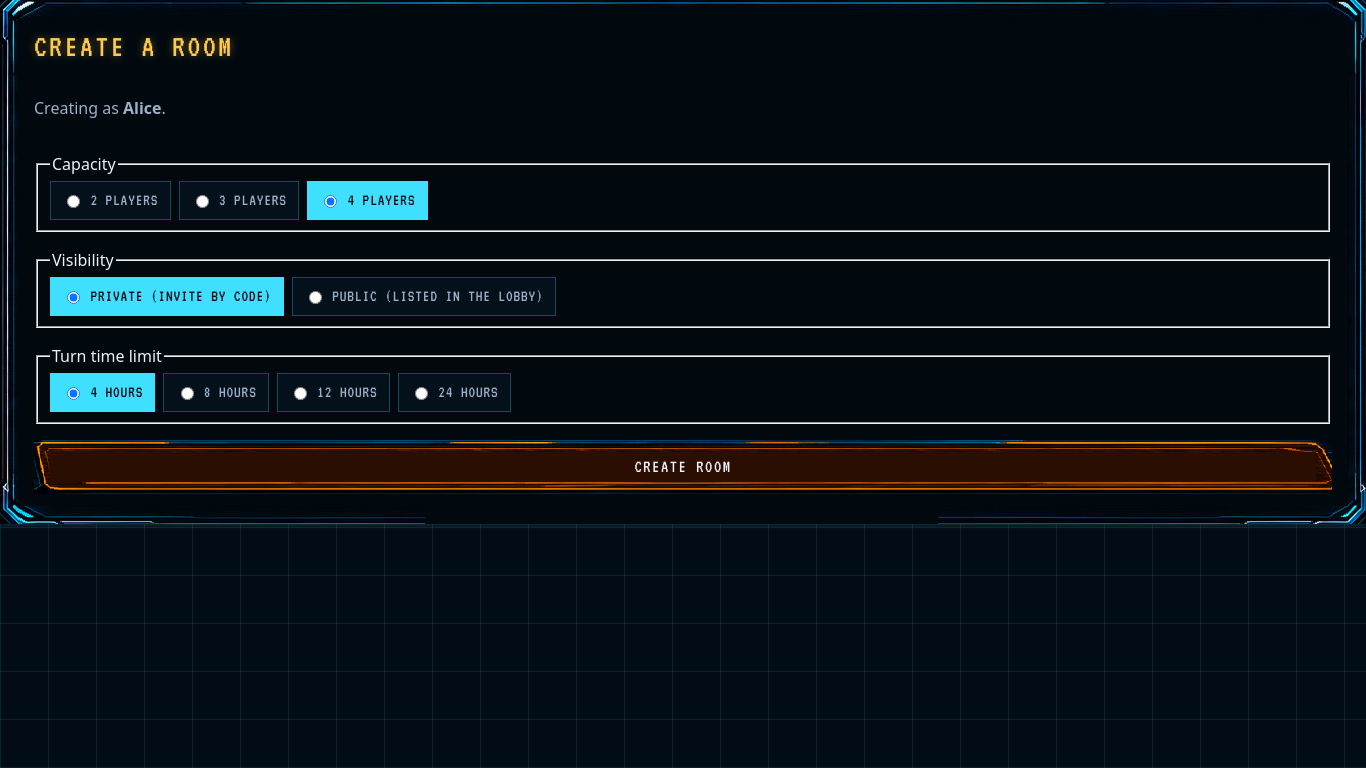
Scenario: CreateRoomPage › surfaces a server error without navigating
Step 1. Click the button "Create room" → (683,467), box 34,440 -> 1332,494
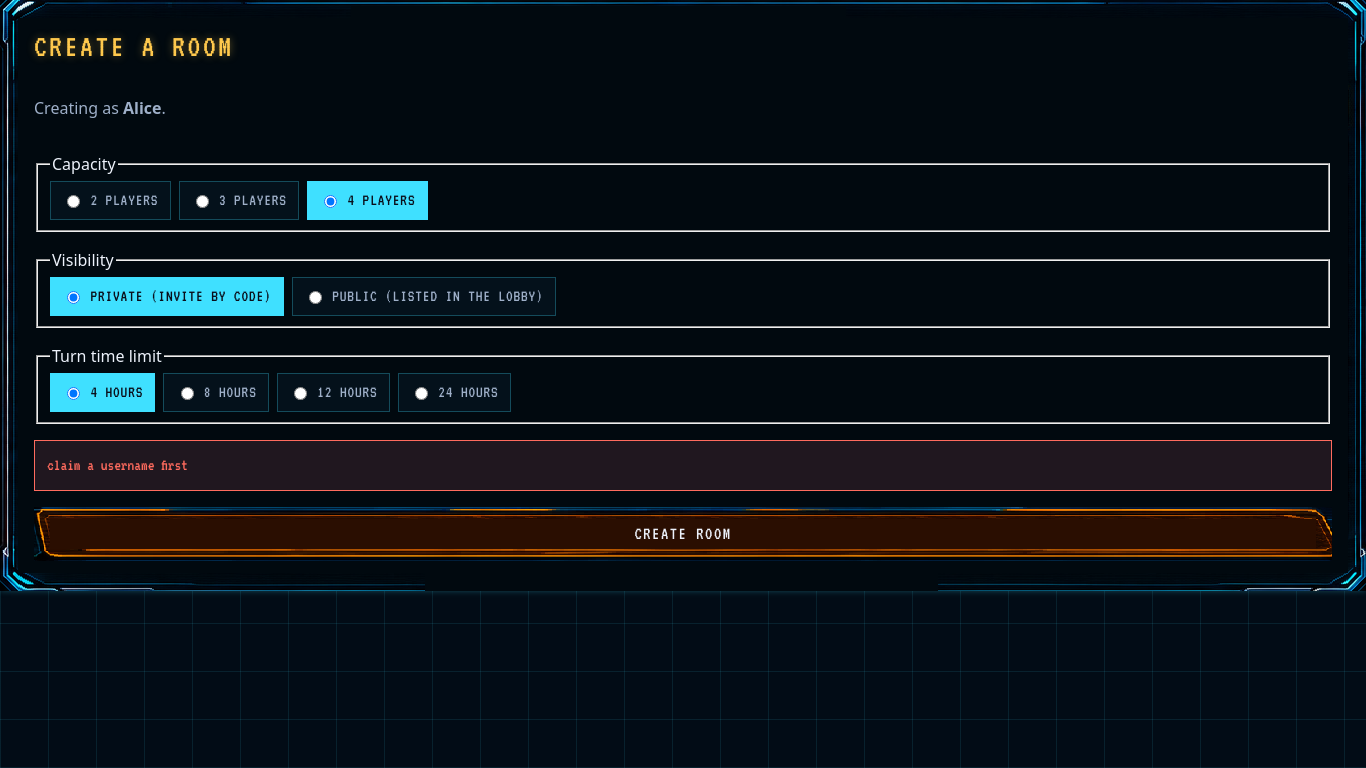
Expected: the text "claim a username first" is shown, 34,440 -> 1332,491
